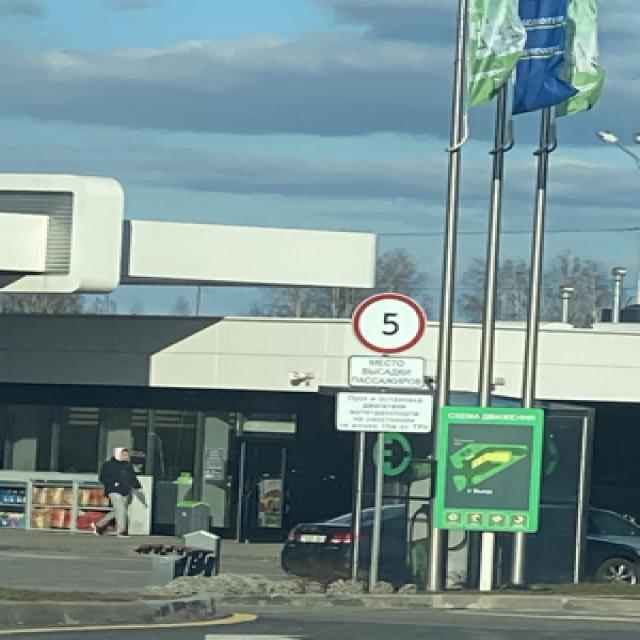speedlimit: (348, 293, 422, 352)
